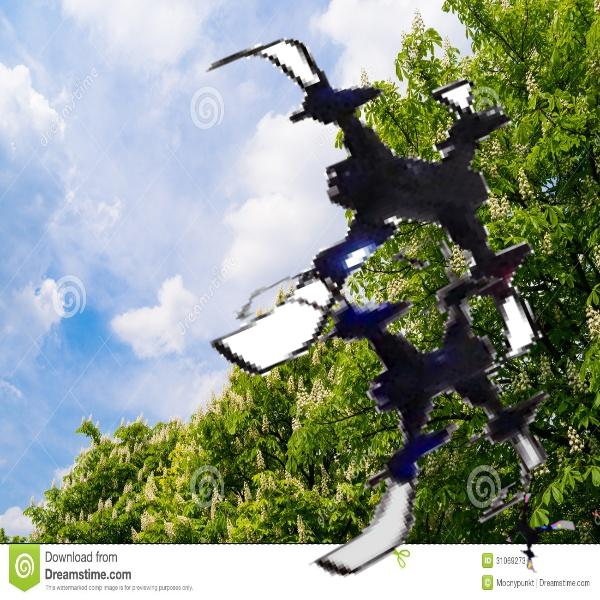drone: (130, 8, 556, 434), (220, 219, 567, 566), (501, 494, 585, 578)
